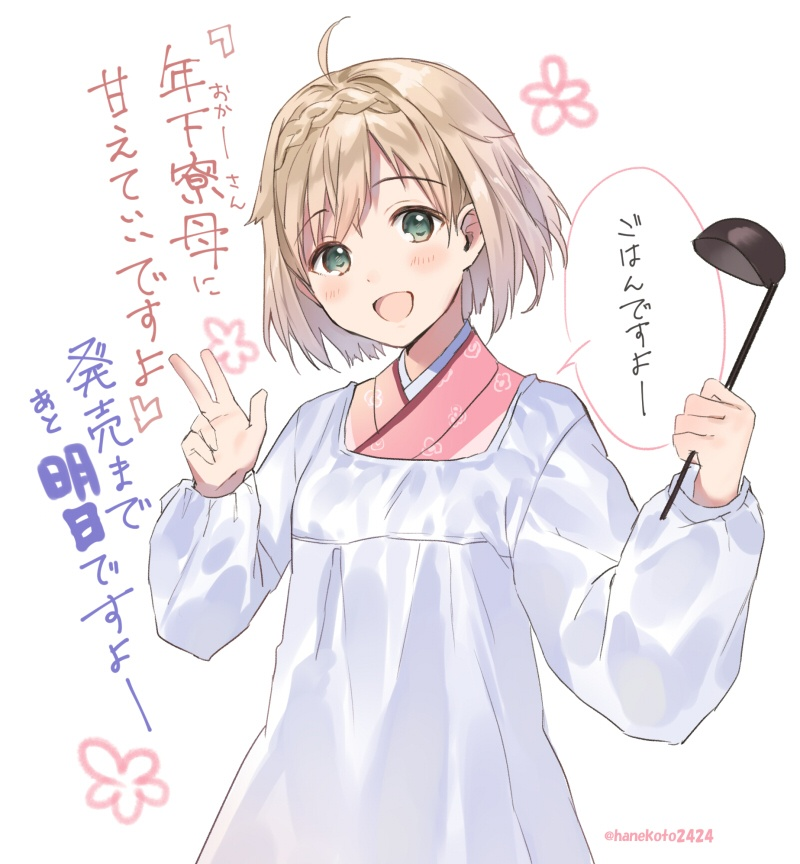纸片人正脸: (242, 39, 550, 362)
